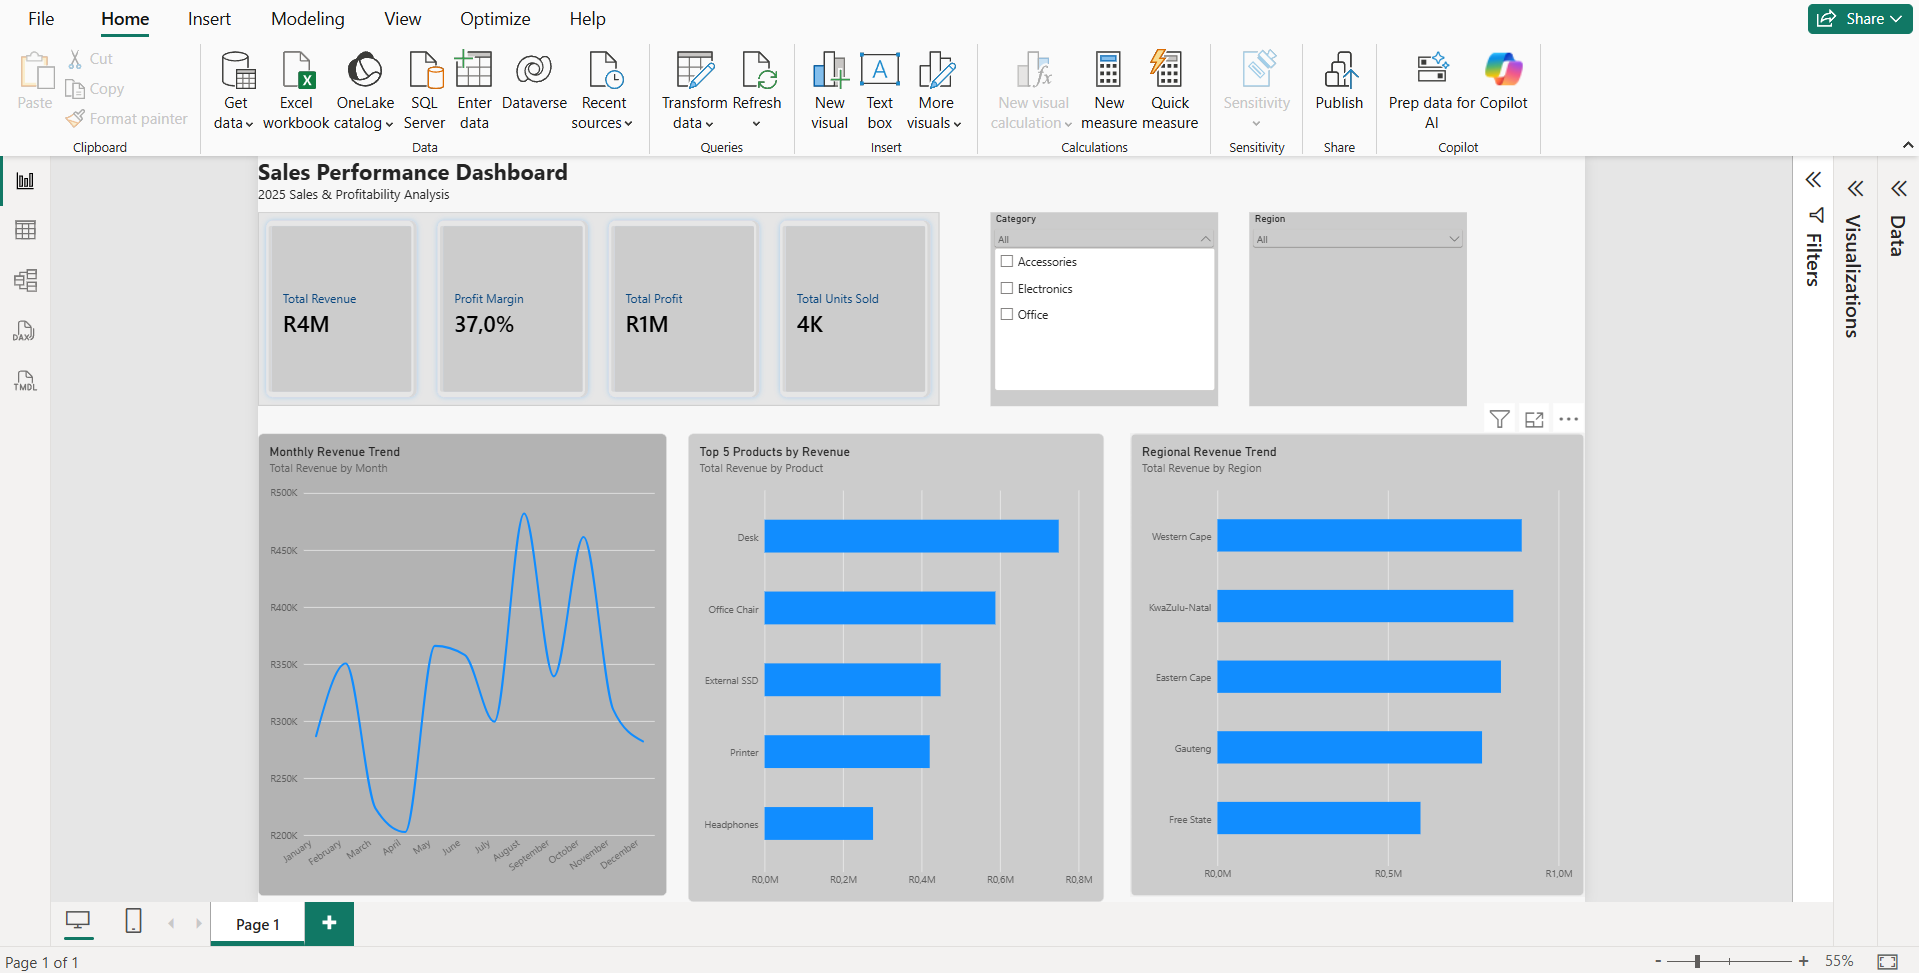

What the dashboard file says about the page in this screenshot:
{"tool":"powerbi","page":{"name":"Page 1","canvas":[1920,1080],"ordinal":0},"visuals":[{"type":"cardVisual","fields":{"Data":["Sales_Data.Total Revenue","Sales_Data.Profit Margin","Sales_Data.Total Profit","Sales_Data.Total Units Sold"]},"box":[0,81.2,988.1,280.5],"z":0},{"type":"lineChart","title":"Monthly Revenue Trend","fields":{"Category":["Sales_Data.Order Date.Variation.Date Hierarchy.Year","Sales_Data.Order Date.Variation.Date Hierarchy.Quarter","Sales_Data.Order Date.Variation.Date Hierarchy.Month","Sales_Data.Order Date.Variation.Date Hierarchy.Day"],"Y":["Sales_Data.Total Revenue"]},"box":[0,401.7,591.8,669.6],"z":1},{"type":"clusteredBarChart","title":"Regional Revenue Trend","fields":{"Category":["Sales_Data.Region"],"Y":["Sales_Data.Total Revenue"]},"box":[1263.1,401.7,656.9,669.6],"z":2},{"type":"clusteredBarChart","title":"Top 5 Products by Revenue","fields":{"Category":["Sales_Data.Product"],"Y":["Sales_Data.Total Revenue"]},"box":[622.5,401.7,602.6,678.6],"z":3},{"type":"slicer","fields":{"Values":["Sales_Data.Region"]},"box":[1435.1,81.4,314.9,280.5],"z":4},{"type":"slicer","fields":{"Values":["Sales_Data.Category"]},"box":[1060.5,81.4,329.4,280.5],"z":5},{"type":"textbox","box":[0,0,470.5,161.1],"z":6}]}

Visuals, with their boxes on the page's 1920x1080 design canvas (x1, y1, x2, y2). These are canvas units, not pixel positions in the 1919x973 screenshot, which may show the page scaled, cropped or inside an application window:
cardVisual - Sales_Data.Total Revenue x Sales_Data.Profit Margin: <box>0,81,988,362</box>
"Monthly Revenue Trend" lineChart: <box>0,402,592,1071</box>
"Regional Revenue Trend" clusteredBarChart: <box>1263,402,1920,1071</box>
"Top 5 Products by Revenue" clusteredBarChart: <box>622,402,1225,1080</box>
slicer - Sales_Data.Region: <box>1435,81,1750,362</box>
slicer - Sales_Data.Category: <box>1060,81,1390,362</box>
textbox: <box>0,0,470,161</box>
